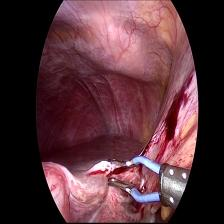Bipolar: (106, 156, 187, 210)
